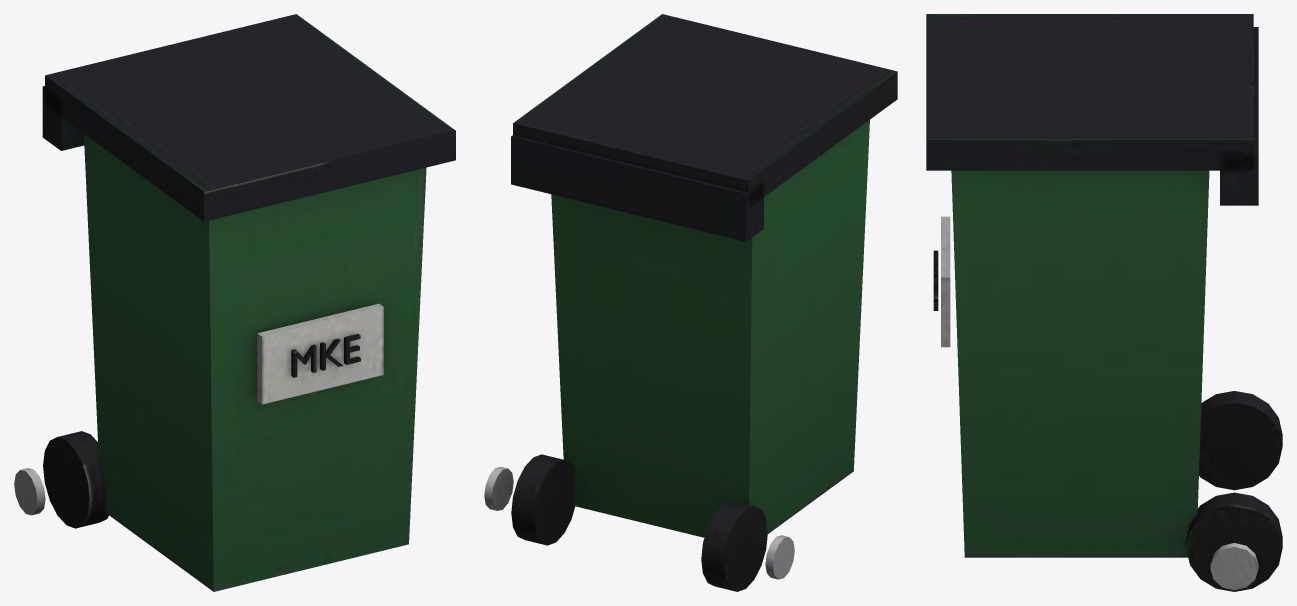
The model's file is cubo_basura.glb.
The picture shows the model from 3 angles, left to right: view 1: azimuth 30°, elevation 25°; view 2: azimuth 150°, elevation 25°; view 3: azimuth 270°, elevation 25°; orthographic projection. The views are drawn at different scales.
Parts seen in each view (by area): view 1: cubo_basura; view 2: cubo_basura; view 3: cubo_basura.
Part boxes in pixels (bbox=[...]): cubo_basura: bbox=[14, 14, 455, 591]; cubo_basura: bbox=[484, 14, 897, 591]; cubo_basura: bbox=[926, 14, 1282, 591].
Size of the model in its own units: 0.76 by 1.05 by 0.74.
1 material, 1 textured.
